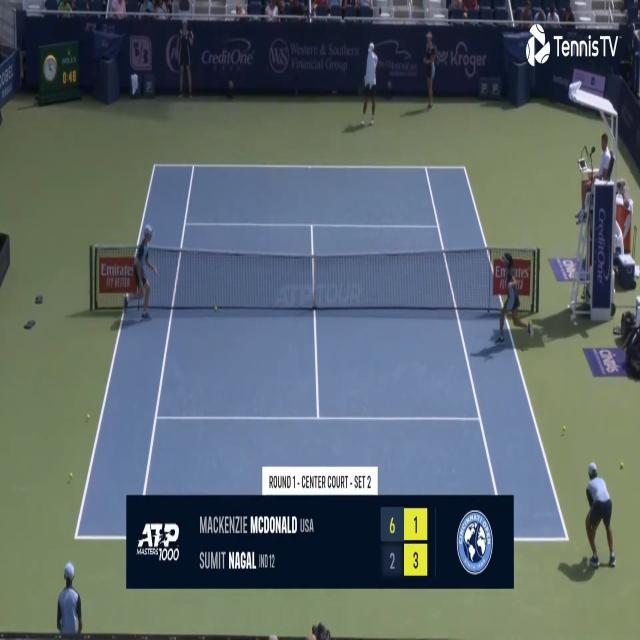tennis-player: (581, 458, 618, 570), (358, 37, 380, 128)
